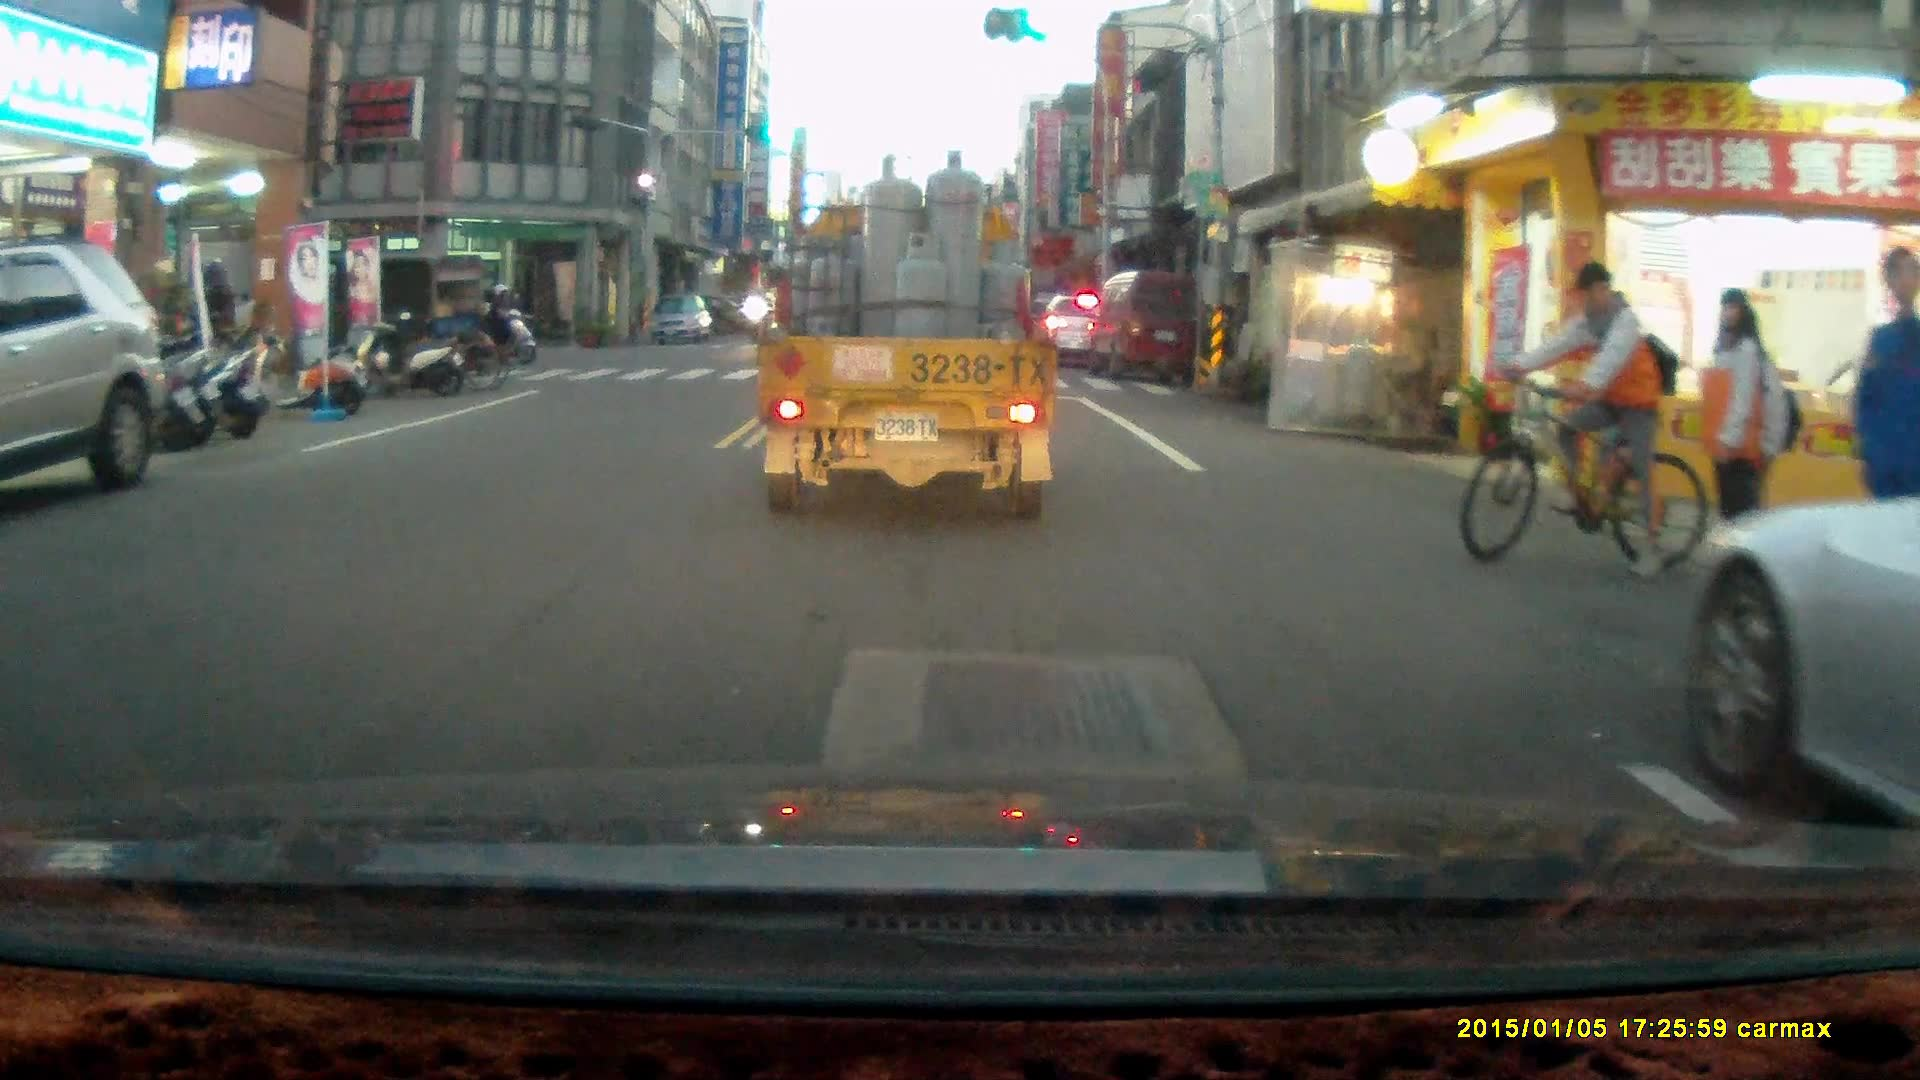pedestrian: (1849, 246, 1920, 589), (1695, 286, 1765, 585), (200, 262, 236, 372)
rider: (1459, 263, 1705, 581), (464, 282, 531, 369)
vehicle: (753, 161, 1042, 520), (1680, 482, 1920, 829), (1, 240, 173, 504), (328, 247, 492, 367), (1088, 269, 1207, 385), (1040, 293, 1107, 366), (647, 293, 715, 350)
